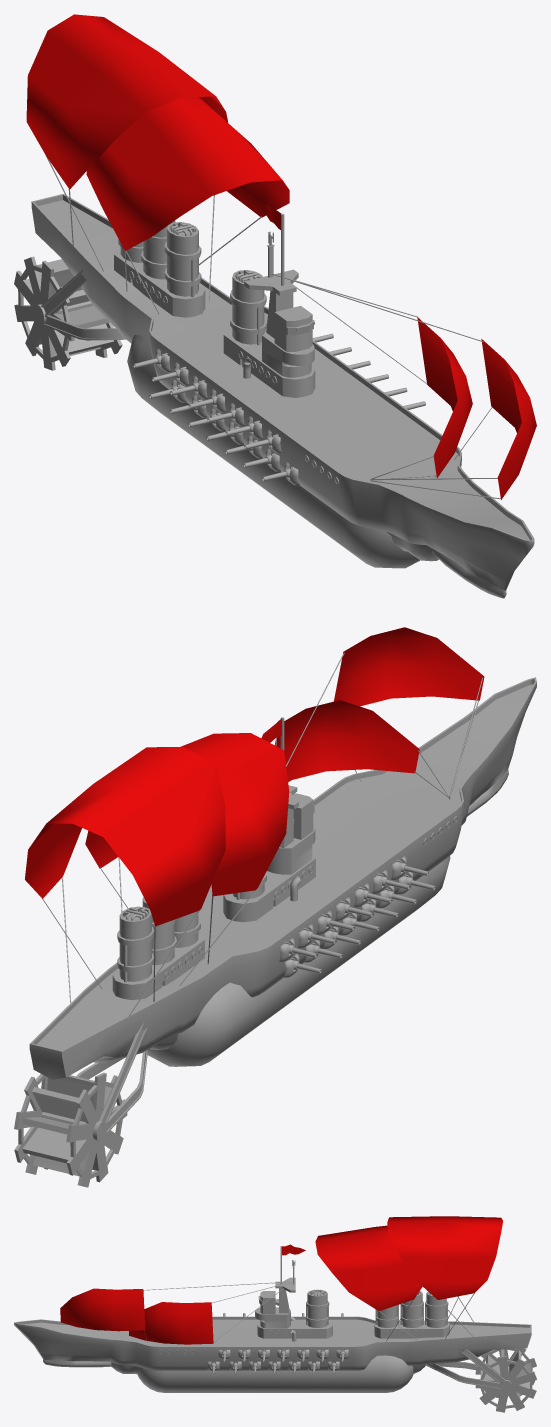
The model's file is ship_navy_cruiser.fbx.
3 renders of one model, top to bottom at view 1: azimuth 30°, elevation 25°; view 2: azimuth 150°, elevation 25°; view 3: azimuth 270°, elevation 25°, orthographic. The views are drawn at different scales.
Visible parts, largest first — view 1: Navy_large, navy_large_pieces; view 2: Navy_large, navy_large_pieces; view 3: Navy_large, navy_large_pieces.
Boxes of the visible parts, box(x1,y1,x2,y2) form: Navy_large: box(26, 14, 536, 598); navy_large_pieces: box(14, 256, 425, 485); Navy_large: box(25, 627, 536, 1079); navy_large_pieces: box(14, 856, 435, 1187); Navy_large: box(14, 1216, 531, 1392); navy_large_pieces: box(207, 1313, 536, 1412).
Bounding box in the file's own units: 2487 × 4608 × 11771.
